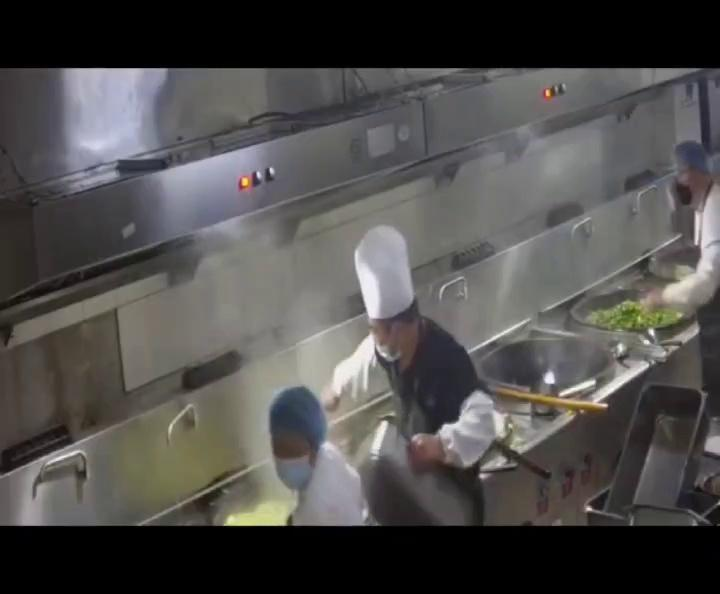gloves: (262, 385, 338, 444), (656, 134, 711, 175)
mask: (265, 448, 312, 493), (370, 327, 415, 365), (669, 169, 698, 209)
